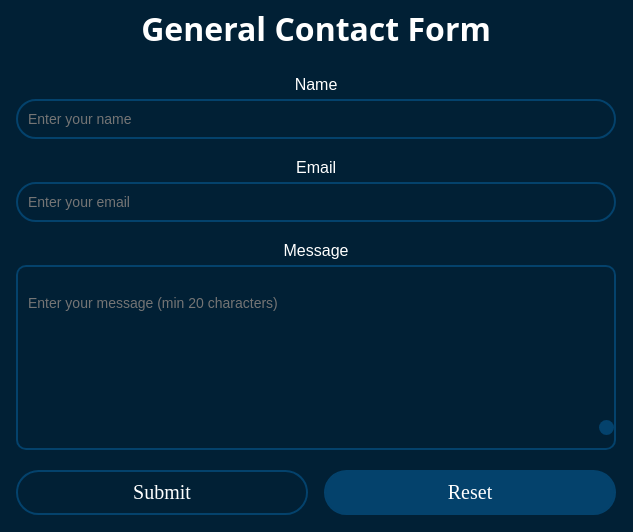
Scenario: GeneralForm › shows error modal when submission fails
Type "Jane Doe" into the field labelled "Name" at {"x": 316, "y": 119}, box [16,99,616,139]
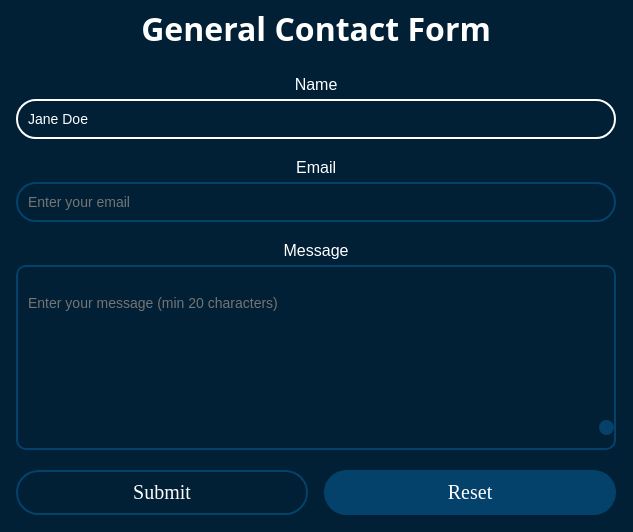
Type "jane@example.com" into the field labelled "Email" at {"x": 316, "y": 202}, box [16,182,616,222]
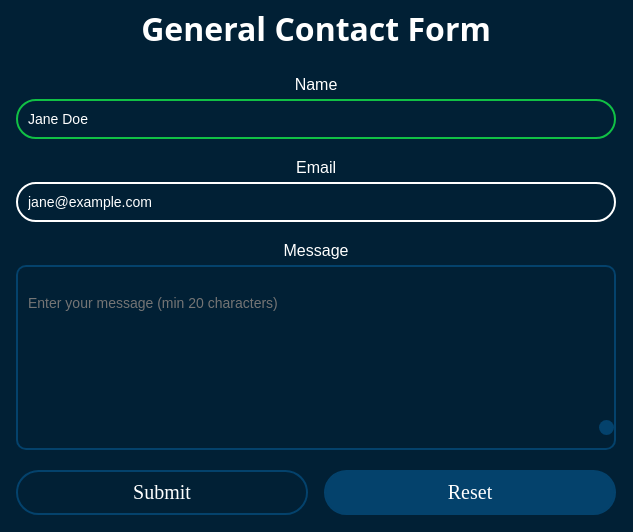
Type "This is a long enough message to pass validation." into the text box labelled "Message" at {"x": 316, "y": 355}, box [18,275,614,435]
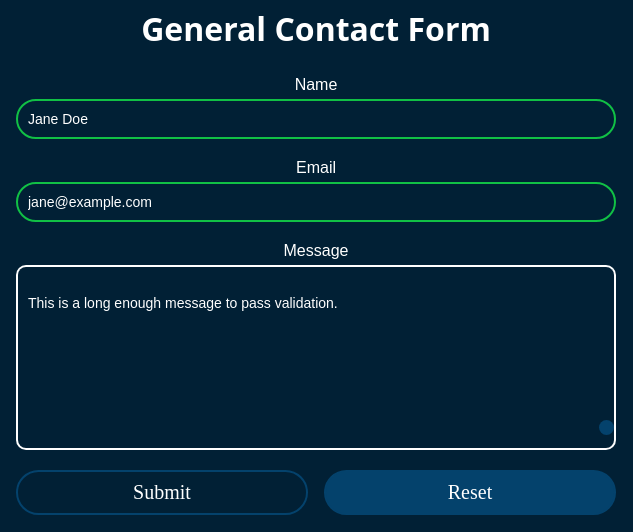
Click the button "Submit" at {"x": 162, "y": 493}, box [16,470,308,515]
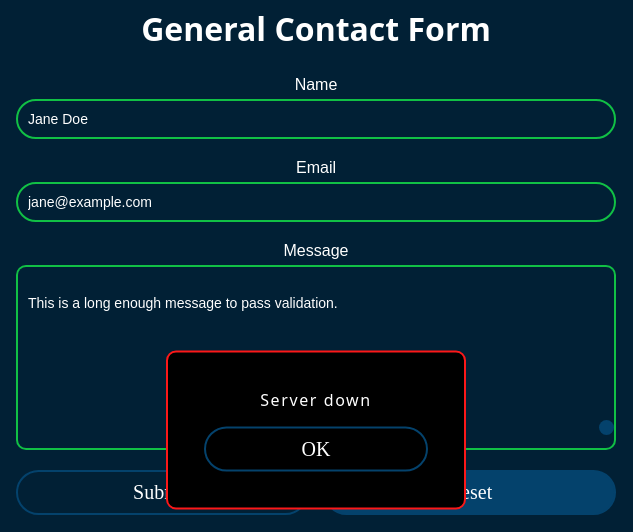
Result: the text "Server down" is shown at [260,388,372,410]
